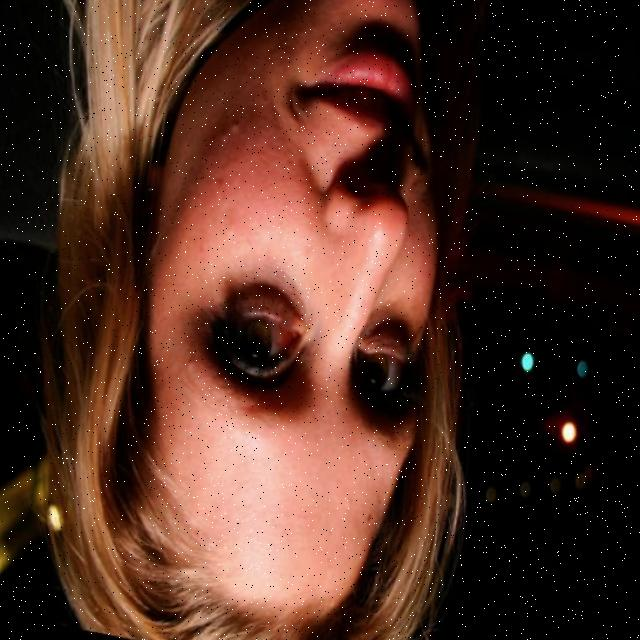puffy_eyes: (224, 271, 309, 328), (362, 306, 416, 353)
